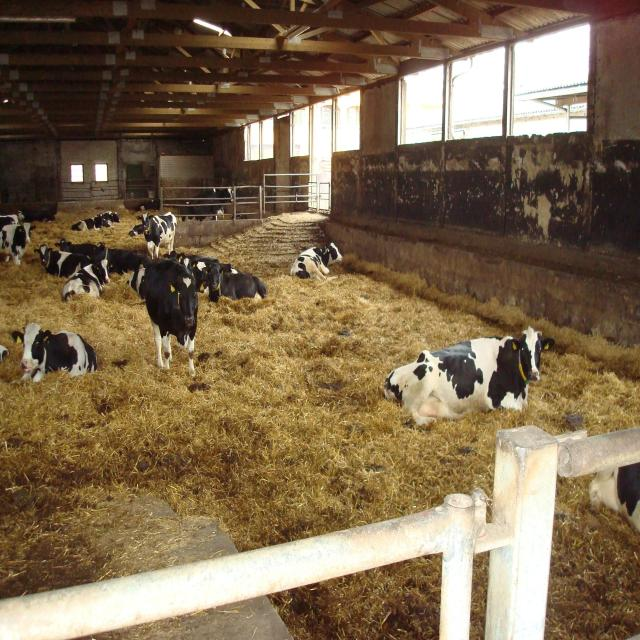cow: (383, 325, 555, 429), (128, 257, 199, 377), (11, 322, 98, 383), (588, 460, 639, 534), (56, 238, 151, 275), (128, 210, 177, 260), (61, 256, 110, 302), (289, 241, 343, 280), (37, 243, 92, 278), (209, 271, 267, 302), (0, 221, 35, 266), (71, 210, 120, 231), (0, 210, 24, 228), (0, 344, 9, 362)
